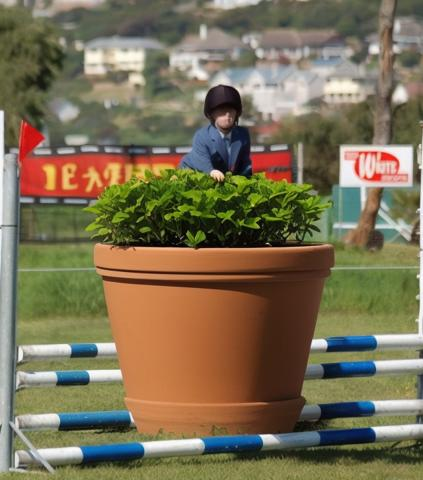person: (135, 82, 256, 270)
pottedplant: (54, 168, 334, 433)
